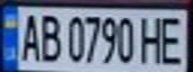0: (115, 12, 139, 64), (63, 11, 84, 63)
7: (81, 11, 100, 64)
9: (100, 12, 121, 64)
A: (15, 10, 42, 63)
B: (36, 10, 63, 63)
E: (157, 12, 187, 65)
H: (136, 12, 166, 65)
